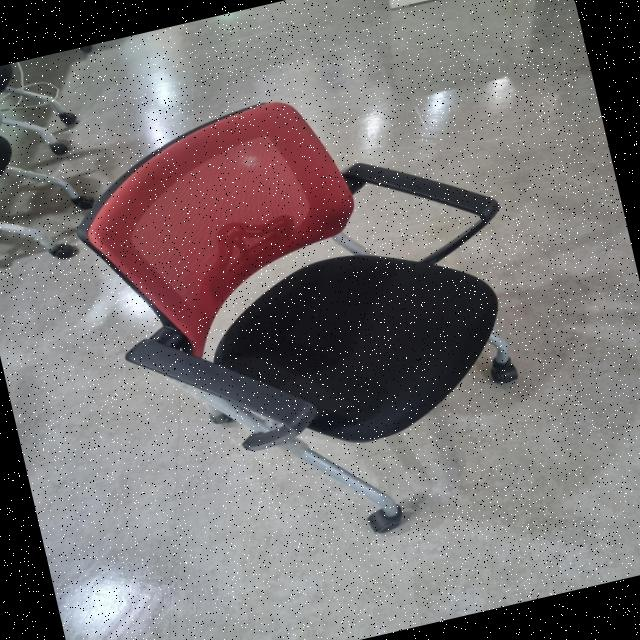Chair: (14, 24, 640, 621)
